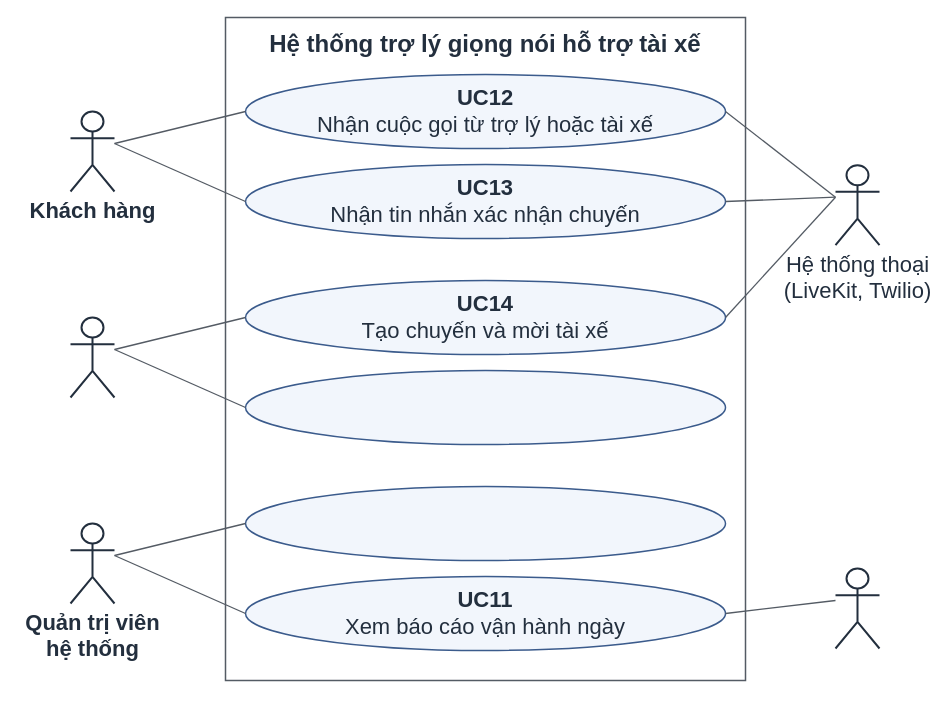
Image size: 948x726. Some labels were removed from this diagram. The centre of each missing label's shape, as x and y in pixels:
Bộ hẹn giờ (EventBridge): the point at 857,608
UC17 Quản lý tài xế, khách hàng, cuộc gọi: the point at 485,407
UC18 Giám sát dịch vụ, cấu hình, nhật ký: the point at 485,523
Điều phối viên: the point at 92,357
